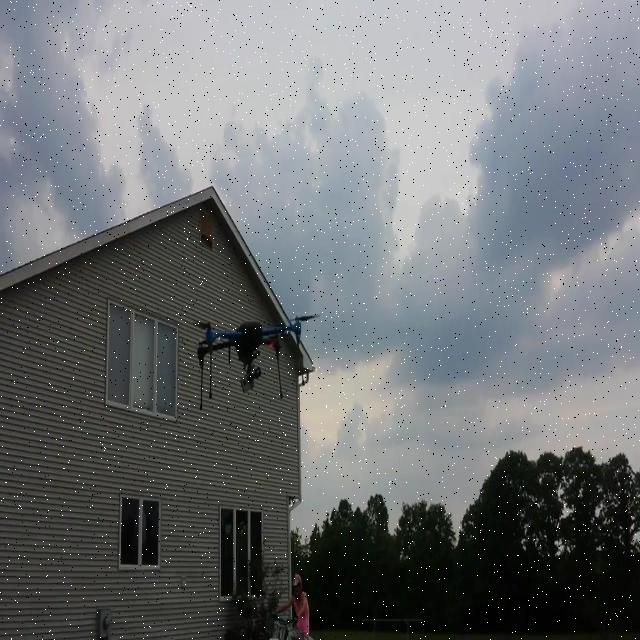UAV: (192, 314, 320, 412)
